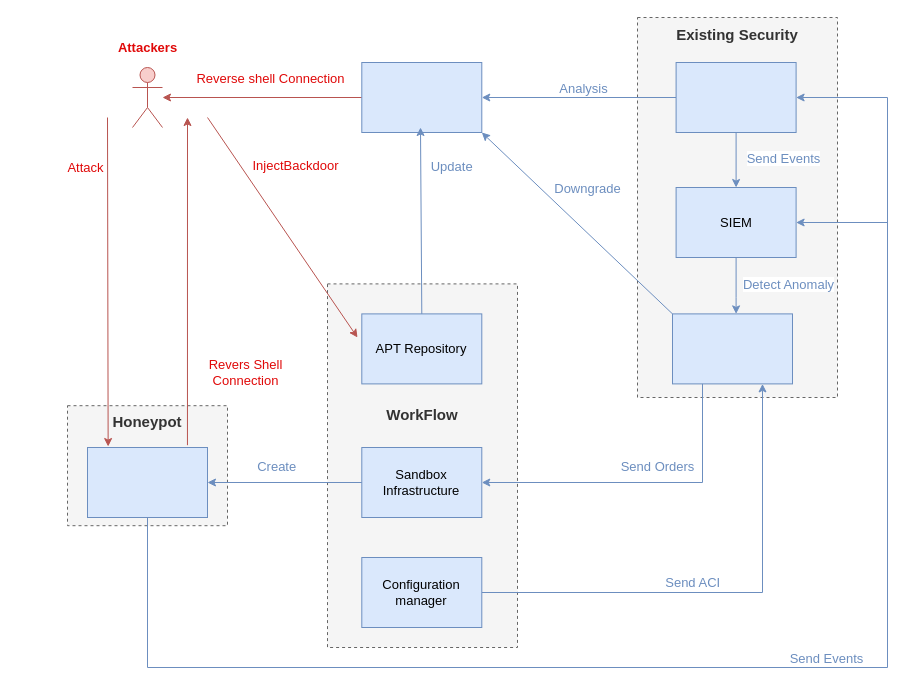
Some shapes in this 913 by 693 pixel diagram are drawn without their labels. Here are the shapes that lost their labels. From the top down, the centre of each, then its label:
At (421,97): "Legit Car".
At (735,97): "IDS".
At (732,348): "SOAR".
At (147,482): "Honeypot Car".
